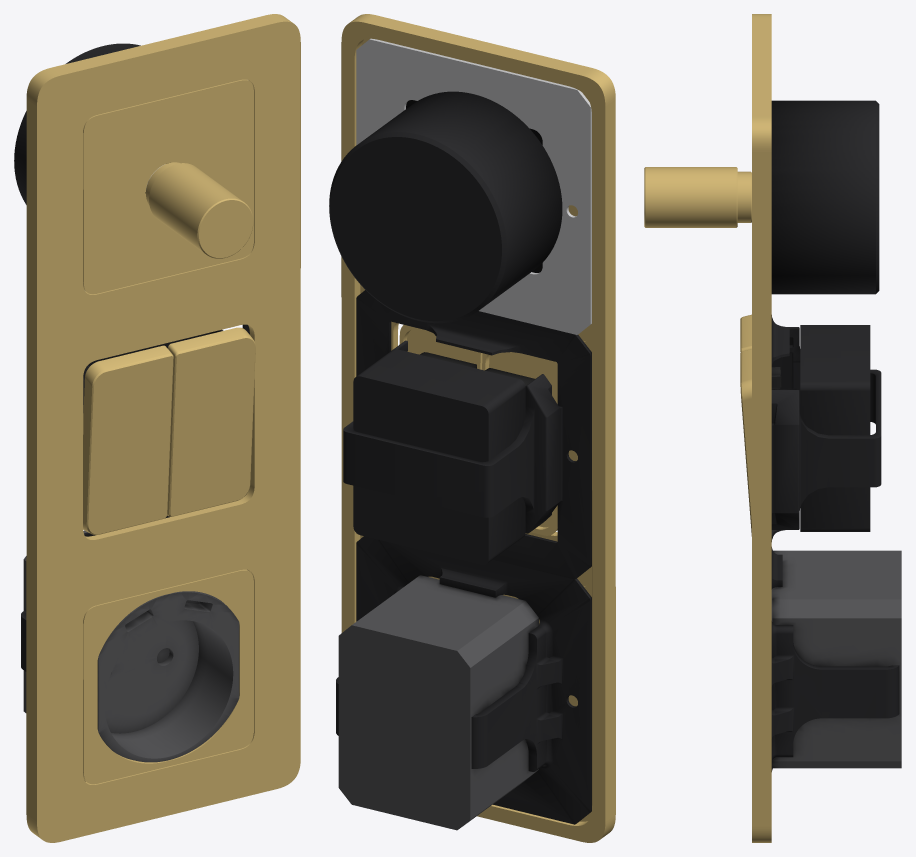
Rendered from tilqe-rt.glb.
3 renders of one model, left to right at view 1: azimuth 30°, elevation 25°; view 2: azimuth 150°, elevation 25°; view 3: azimuth 270°, elevation 25°, orthographic. The views are drawn at different scales.
Parts seen in each view (by area): view 1: Front Plate (TILQE), Dimmer Infill Metall (asm), Socket USBC Module, Knapp Cap L, Knapp Cap R, Socket USBC Infill (asm), Dimmer Knob, Dimmer Module Body; view 2: Dimmer Module Body, Socket USBC Module, Front Plate (TILQE), Mounting Plate Knapp, Mounting Plate Socket USB-C, Switch Module Body, Dimmer Module Plate, Knapp Cap L, Knapp Cap R; view 3: Dimmer Module Body, Socket USBC Module, Front Plate (TILQE), Mounting Plate Knapp, Switch Module Body, Mounting Plate Socket USB-C, Dimmer Knob, Knapp Cap R, Dimmer Ring M10x0.
Part boxes in pixels (bbox=[...]): Front Plate (TILQE): bbox=[26, 14, 300, 842]; Dimmer Infill Metall (asm): bbox=[83, 79, 253, 294]; Socket USBC Module: bbox=[23, 530, 239, 762]; Knapp Cap L: bbox=[83, 345, 173, 534]; Knapp Cap R: bbox=[167, 327, 255, 516]; Socket USBC Infill (asm): bbox=[83, 569, 253, 784]; Dimmer Knob: bbox=[149, 163, 253, 258]; Dimmer Module Body: bbox=[14, 43, 145, 204]; Dimmer Module Body: bbox=[329, 91, 562, 323]; Socket USBC Module: bbox=[338, 575, 538, 830]; Front Plate (TILQE): bbox=[341, 14, 615, 842]; Mounting Plate Knapp: bbox=[343, 290, 591, 579]; Mounting Plate Socket USB-C: bbox=[336, 536, 591, 824]; Switch Module Body: bbox=[353, 349, 525, 564]; Dimmer Module Plate: bbox=[356, 38, 591, 334]; Knapp Cap L: bbox=[482, 352, 557, 535]; Knapp Cap R: bbox=[399, 325, 482, 369]; Dimmer Module Body: bbox=[771, 100, 879, 294]; Socket USBC Module: bbox=[771, 550, 901, 768]; Front Plate (TILQE): bbox=[752, 14, 771, 842]; Mounting Plate Knapp: bbox=[771, 315, 881, 541]; Switch Module Body: bbox=[800, 325, 870, 531]; Mounting Plate Socket USB-C: bbox=[771, 547, 899, 771]; Dimmer Knob: bbox=[644, 167, 737, 227]; Knapp Cap R: bbox=[740, 349, 751, 536]; Dimmer Ring M10x0: bbox=[737, 171, 751, 222].
Bounding box in the file's own units: 0.08 × 0.222 × 0.0717.
